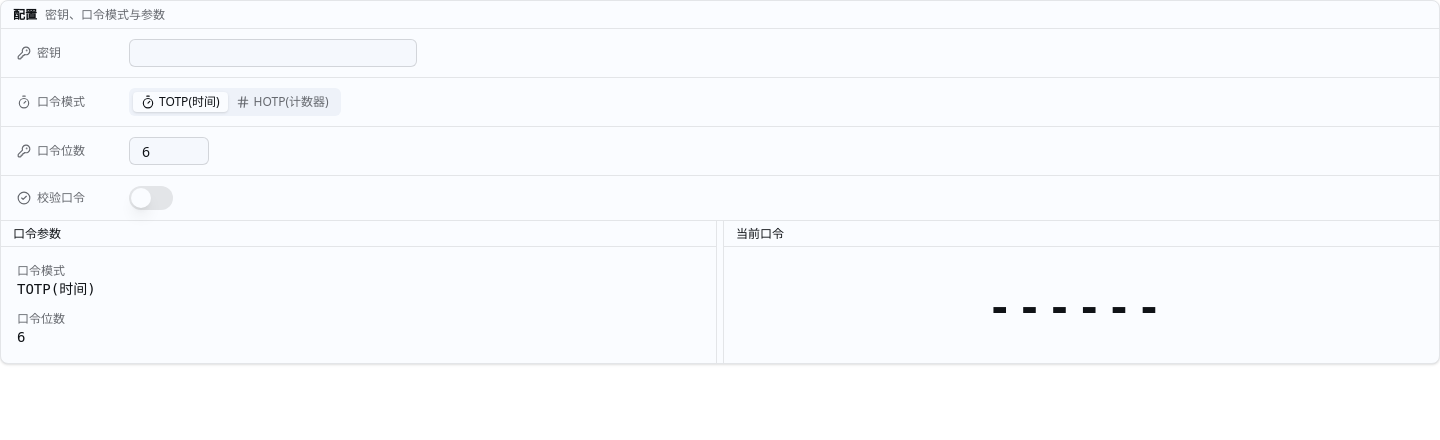
Scenario: OtpGenerator › 非法密钥显示错误提示
The width and height of the screenshot is (1440, 440).
Step 1. Type "0189!" into the field named "Base32 密钥" → (273, 53), box [129,39,417,67]
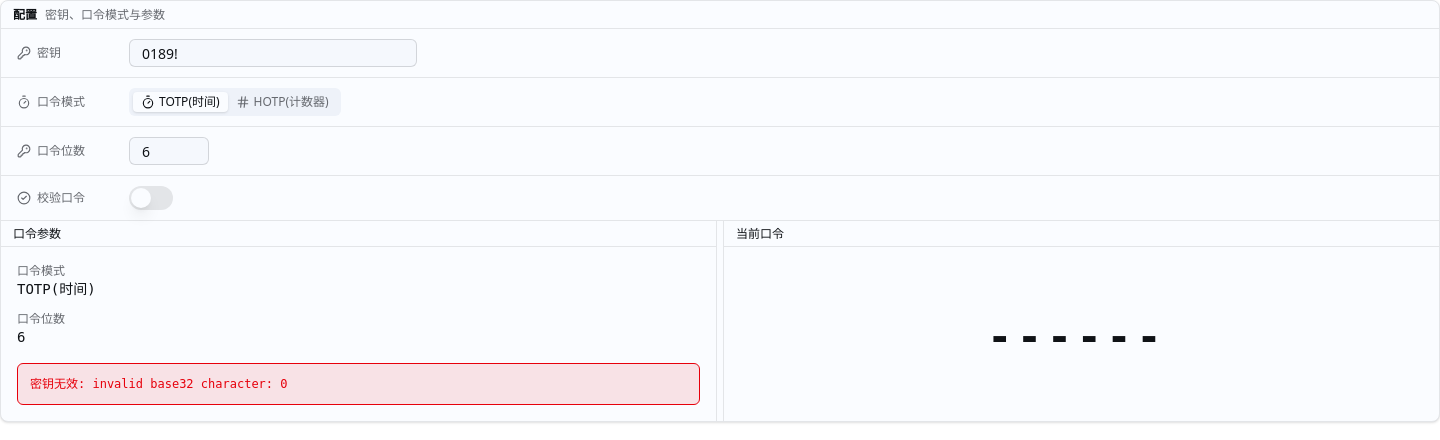
Check: the message "密钥无效: invalid base32 character: 0" is shown, box [17,363,700,405]
